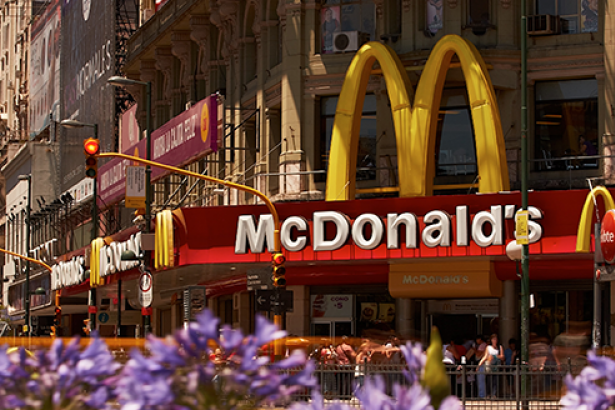mcdonalds: (320, 31, 513, 208)
